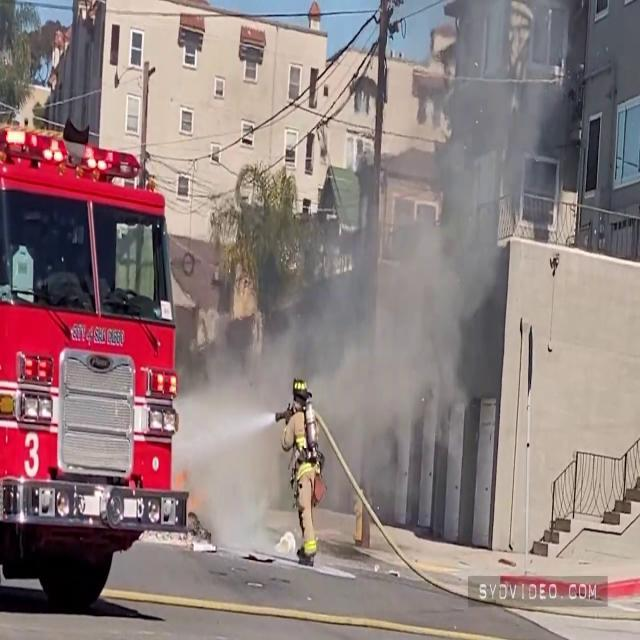Smoke: (286, 18, 532, 498)
